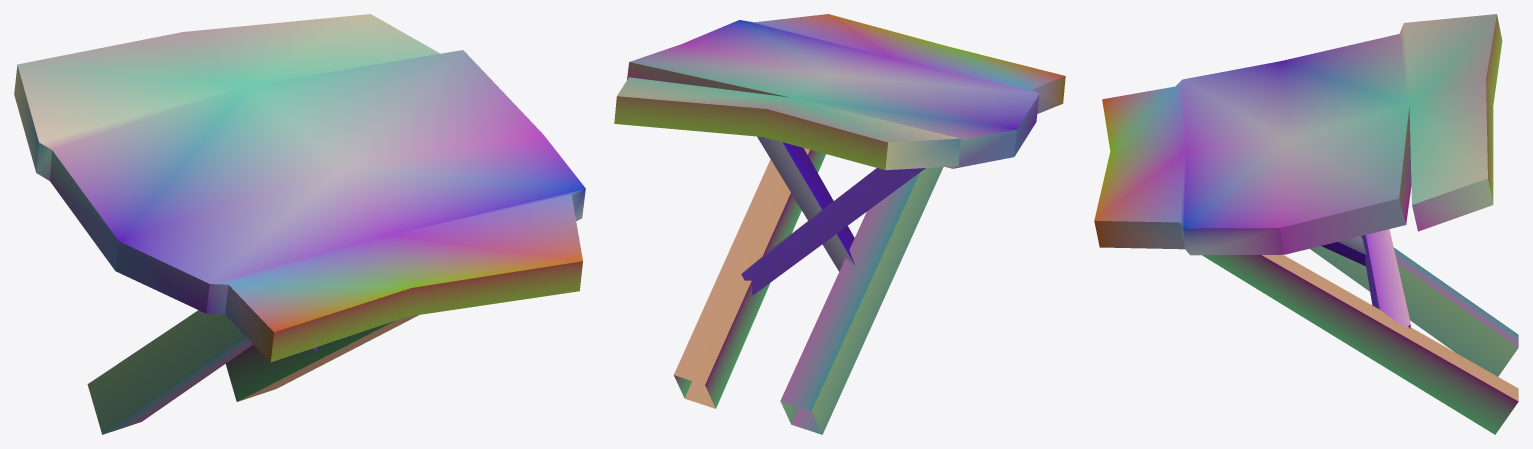
Rendered from Target_A.glb.
3 views of the same model, side by side, from view 1: azimuth 30°, elevation 25°; view 2: azimuth 150°, elevation 25°; view 3: azimuth 270°, elevation 25° (orthographic). The views are drawn at different scales.
Visible parts, largest first — view 1: MeshNode_0; view 2: MeshNode_0; view 3: MeshNode_0.
Part boxes in pixels (bbox=[...]): MeshNode_0: bbox=[14, 14, 585, 434]; MeshNode_0: bbox=[614, 14, 1065, 434]; MeshNode_0: bbox=[1094, 14, 1518, 434].
Size of the model in its own units: 6.26 by 5.45 by 6.54.
